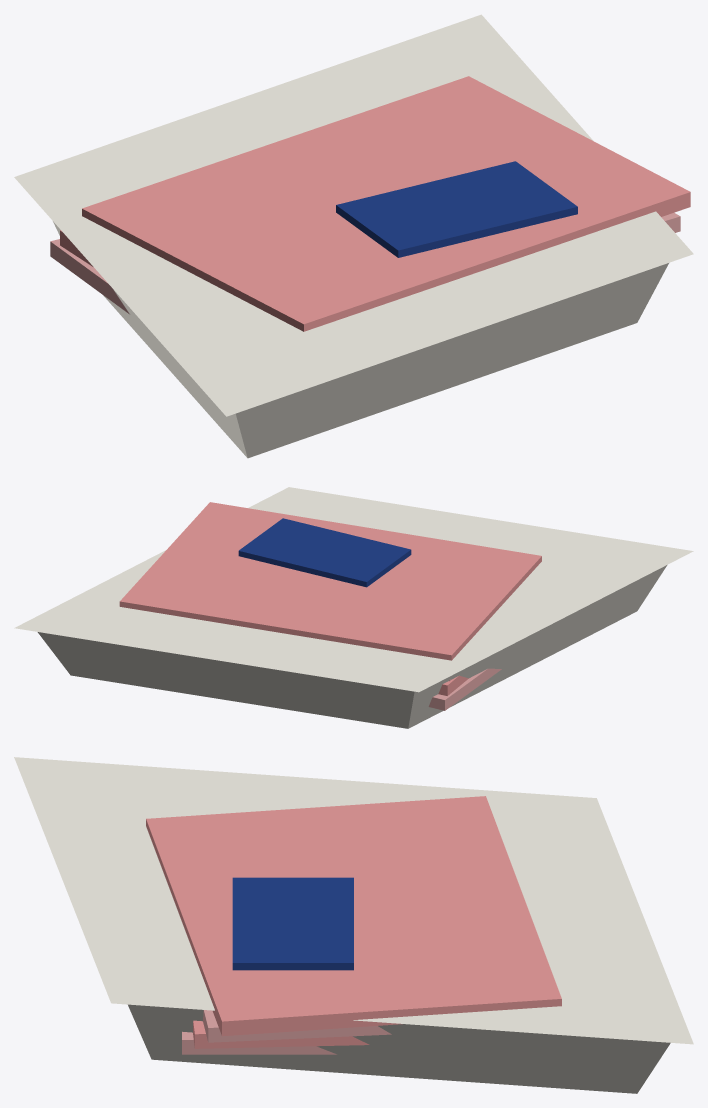
Rendered from g-ham.glb.
The picture shows the model from 3 angles, top to bottom: view 1: azimuth 30°, elevation 25°; view 2: azimuth 150°, elevation 25°; view 3: azimuth 270°, elevation 25°; orthographic projection. The views are drawn at different scales.
Parts seen in each view (by area): view 1: g_ham; view 2: g_ham; view 3: g_ham.
Part boxes in pixels (bbox=[...]): g_ham: bbox=[14, 14, 693, 458]; g_ham: bbox=[14, 487, 693, 728]; g_ham: bbox=[14, 757, 693, 1093].
Bounding box in the file's own units: 0.168 × 0.024 × 0.168.
